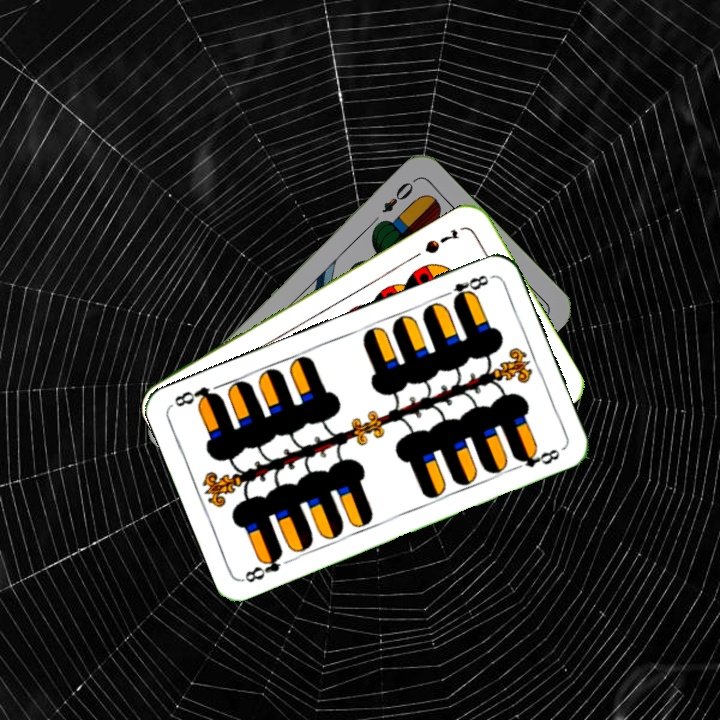E8: (437, 271, 491, 306), (239, 547, 286, 585)
EO: (378, 178, 416, 216)
S7: (420, 225, 461, 257)
